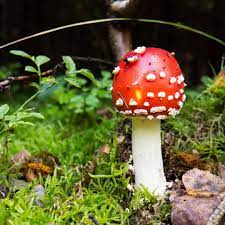Amanita muscaria: (104, 37, 191, 198)
